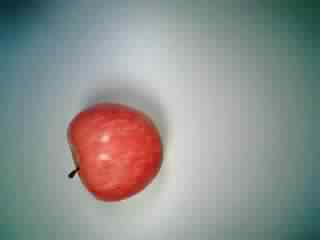apple: (60, 100, 164, 204)
